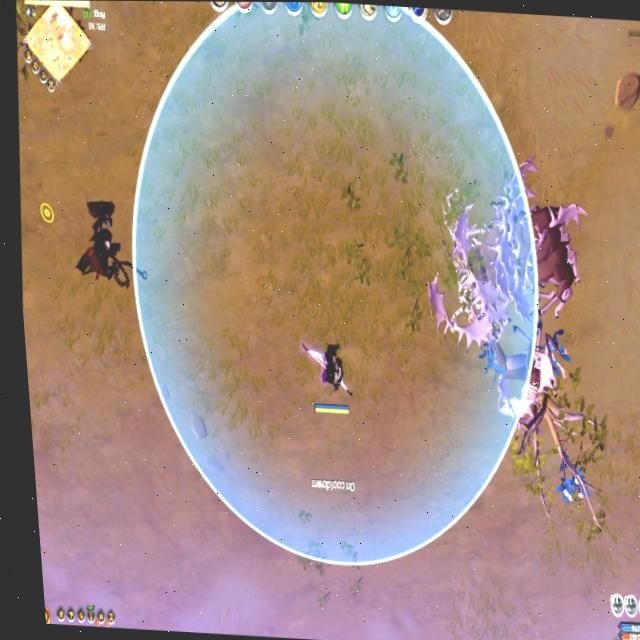hide: (550, 444, 595, 514)
mob: (523, 197, 591, 321), (486, 326, 551, 398)
ore: (70, 192, 134, 294)
red: (304, 333, 358, 421)
